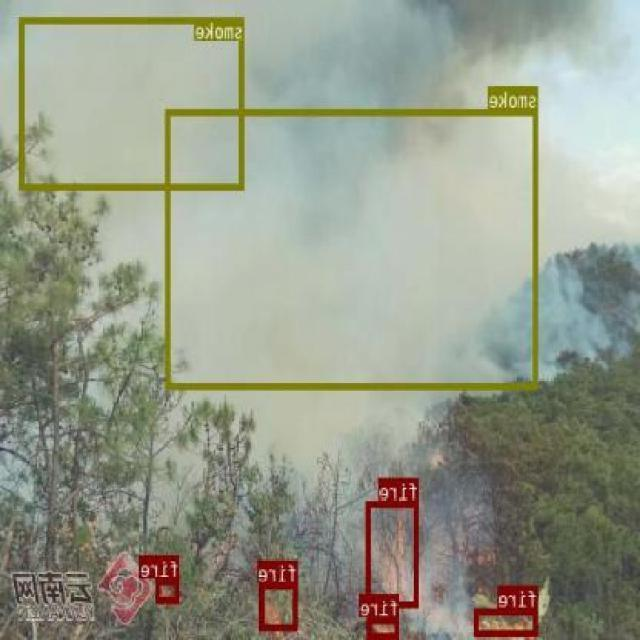Fire: (368, 500, 420, 606), (476, 608, 538, 636), (262, 582, 298, 628), (368, 616, 401, 638), (156, 578, 181, 602)
Smoke: (166, 109, 540, 388), (20, 17, 245, 190)
